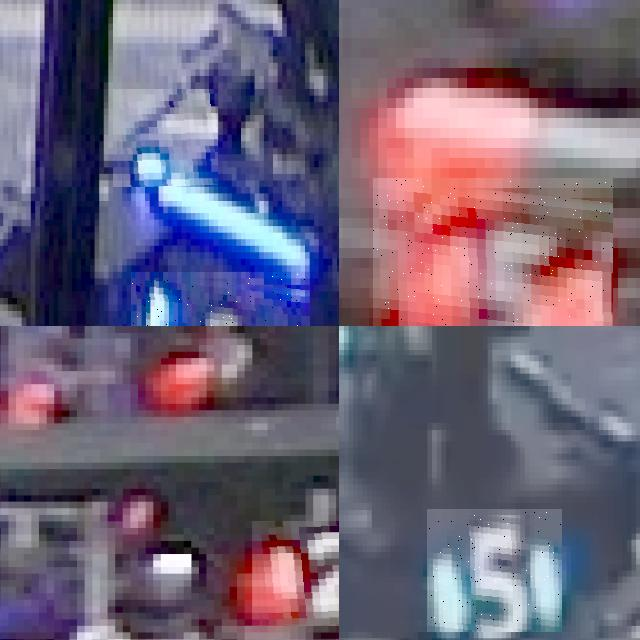B1: (113, 89, 218, 187), (131, 271, 309, 326)
B5: (427, 509, 562, 632)
R2: (252, 521, 339, 625)
R5: (373, 178, 613, 326)
